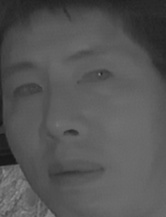eye: (77, 65, 115, 91), (10, 80, 44, 103)
mouth: (42, 155, 104, 191)
